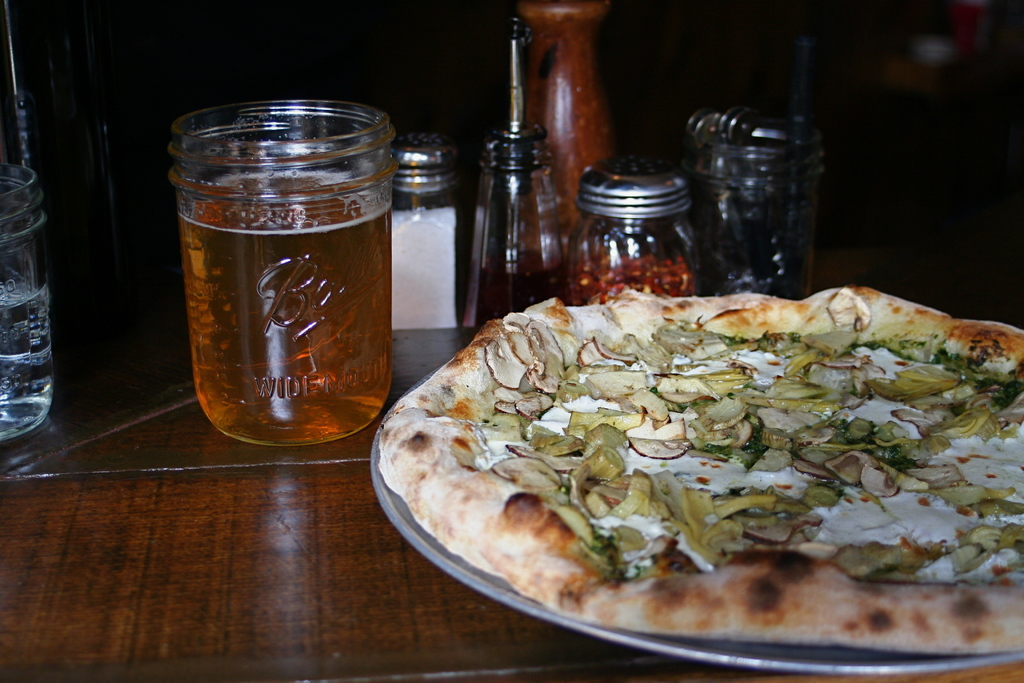Pizza: (375, 285, 1023, 652)
